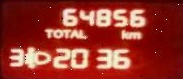0: (70, 47, 89, 68)
2: (50, 46, 69, 69)
3: (94, 47, 111, 69), (6, 46, 22, 67)
4: (77, 8, 94, 25)
5: (111, 7, 127, 26)
6: (111, 47, 130, 68), (128, 8, 146, 27), (60, 7, 77, 26)
8: (94, 7, 111, 26)
X: (126, 29, 142, 40), (51, 27, 62, 38), (77, 28, 87, 38), (68, 28, 78, 38), (119, 28, 128, 39), (43, 27, 52, 38), (61, 28, 70, 38)
